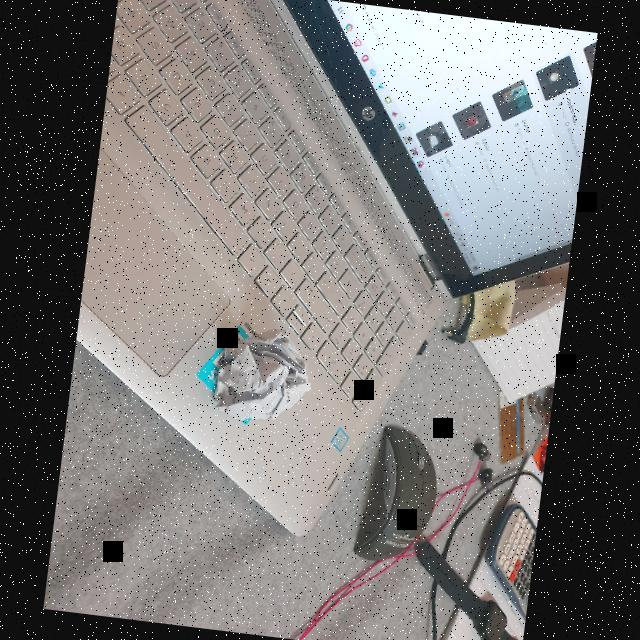scrap_paper: (202, 317, 324, 433)
